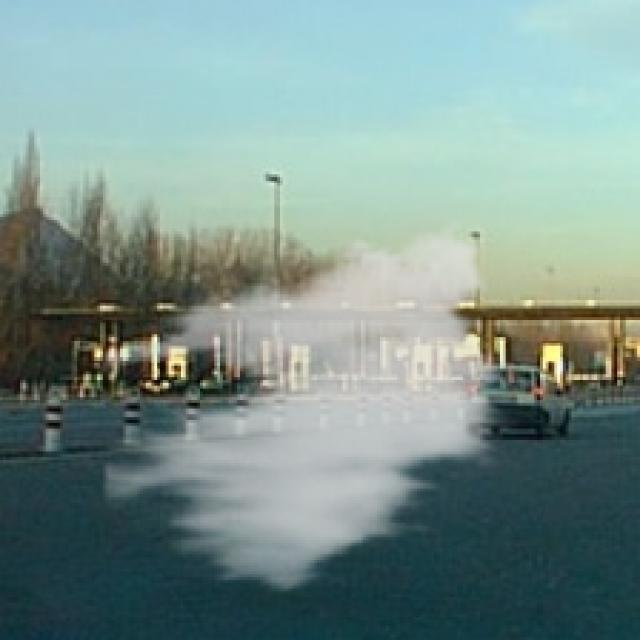Smoke: (102, 211, 518, 603)
